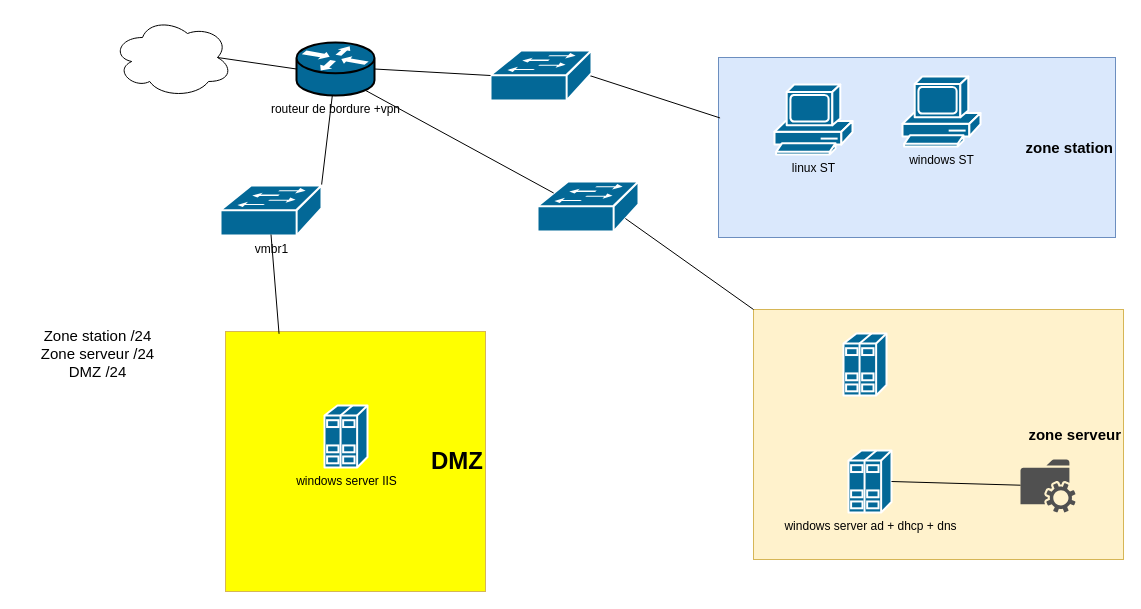
Image size: 1141x609. Some labels were removed from this diagram. Each missing label, with the centre of its shape:
"Fichier partagé" belongs at point (1047, 485).
"internet" belongs at point (172, 57).
"serveur linux apache" belongs at point (864, 364).
"vmbr2" belongs at point (587, 206).
"vmbr3" belongs at point (540, 75).
